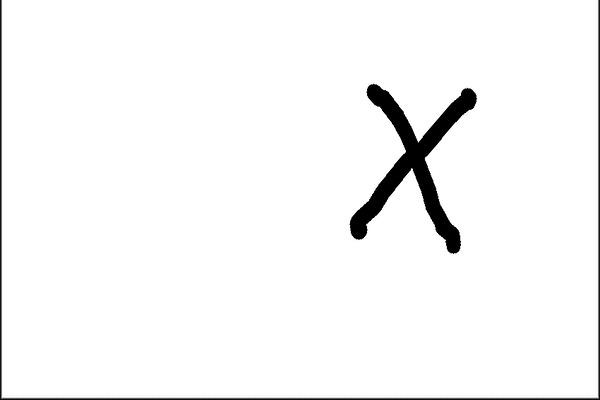X: (319, 64, 485, 269)
